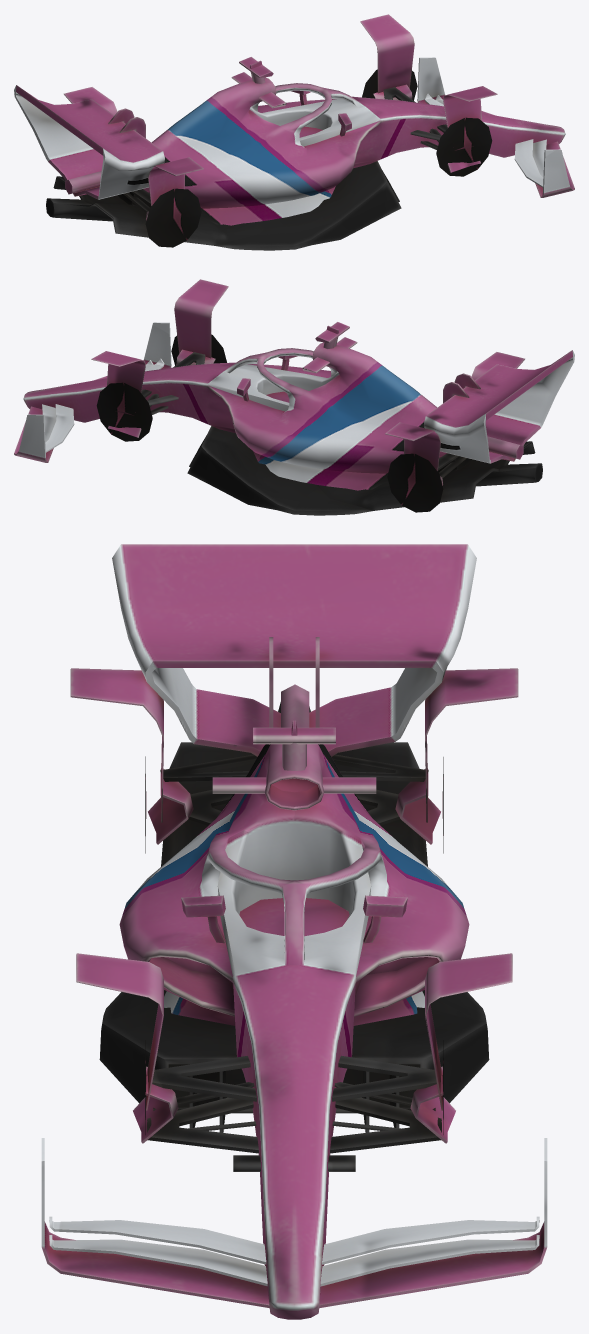
The model's file is f1_car_20.dae.
The picture shows the model from 3 angles, top to bottom: view 1: azimuth 30°, elevation 25°; view 2: azimuth 150°, elevation 25°; view 3: azimuth 270°, elevation 25°; orthographic projection. The views are drawn at different scales.
Parts seen in each view (by area): view 1: F1_Car; view 2: F1_Car; view 3: F1_Car.
Part boxes in pixels (<box>): F1_Car: <box>14,14,574,250</box>; F1_Car: <box>14,279,574,515</box>; F1_Car: <box>41,544,547,1319</box>.
Size of the model in its own units: 34.44 by 14.7 by 9.69.
Materials: 1 (1 with a texture image).
